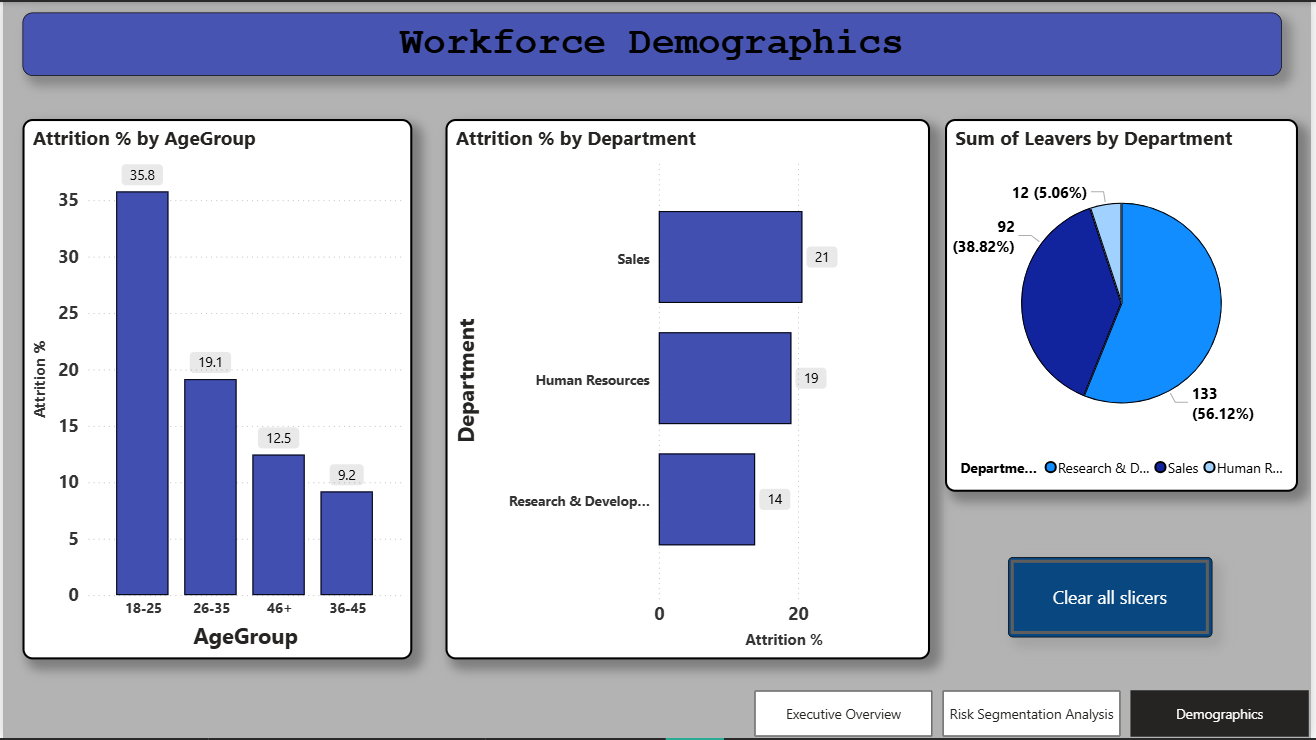

What the dashboard file says about the page in this screenshot:
{"tool":"powerbi","page":{"name":"Demographics","canvas":[1280,720],"ordinal":2},"visuals":[{"type":"textbox","box":[19.6,10.4,1232.3,62.3],"z":0},{"type":"columnChart","fields":{"Category":["hr_dashboard_metrics.AgeGroup"],"Y":["hr_dashboard_metrics.Attrition %"]},"box":[19.7,115.1,381.6,528.5],"z":1000},{"type":"barChart","fields":{"Y":["hr_dashboard_metrics.Attrition %"],"Category":["hr_dashboard_metrics.Department"]},"box":[433.1,115.1,473.9,528.5],"z":2000},{"type":"pageNavigator","box":[735.9,673.8,543.6,45.4],"z":3000},{"type":"pieChart","fields":{"Y":["Sum(hr_dashboard_metrics.Leavers)"],"Category":["hr_dashboard_metrics.Department"]},"box":[922.2,115.1,345.2,364.9],"z":4000},{"type":"actionButton","box":[982.7,543.6,199.9,78.7],"z":5000}]}

Visuals, with their boxes in screenshot pixels (x1, y1, x2, y2), scaled from the page's 1280x720 canvas onto the 1316x740 screenshot:
textbox: box(20, 11, 1287, 75)
columnChart - hr_dashboard_metrics.AgeGroup x hr_dashboard_metrics.Attrition %: box(20, 118, 413, 661)
barChart - hr_dashboard_metrics.Attrition % x hr_dashboard_metrics.Department: box(445, 118, 933, 661)
pageNavigator: box(757, 693, 1315, 739)
pieChart - Sum(hr_dashboard_metrics.Leavers) x hr_dashboard_metrics.Department: box(948, 118, 1303, 493)
actionButton: box(1010, 559, 1216, 640)
